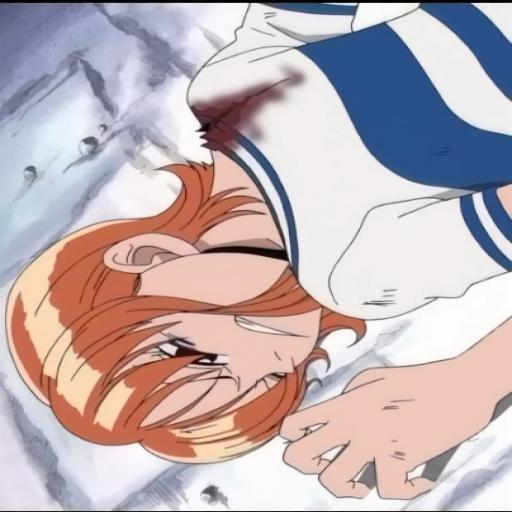Nami: (0, 0, 512, 488)
